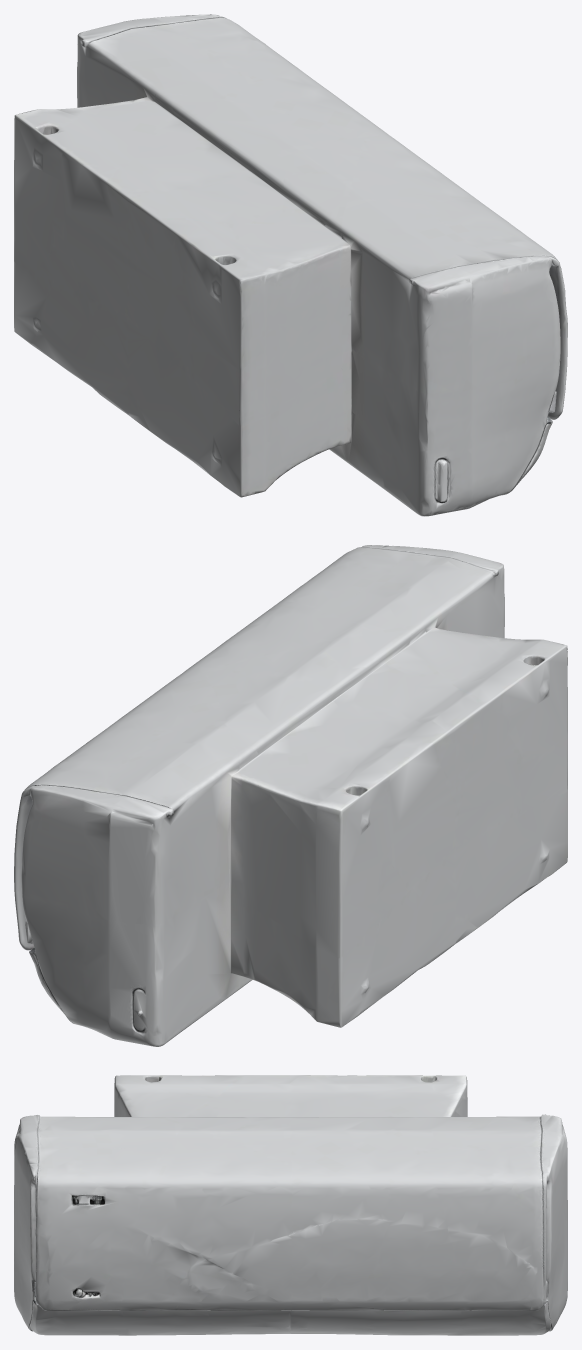
The model's file is indoor.glb.
3 renders of one model, top to bottom at view 1: azimuth 30°, elevation 25°; view 2: azimuth 150°, elevation 25°; view 3: azimuth 270°, elevation 25°, orthographic. The views are drawn at different scales.
Visible parts, largest first — view 1: tripo_node_06da59c1-ff24-43dd-b6ef-981daf256566; view 2: tripo_node_06da59c1-ff24-43dd-b6ef-981daf256566; view 3: tripo_node_06da59c1-ff24-43dd-b6ef-981daf256566.
Boxes of the visible parts, x1=… form: tripo_node_06da59c1-ff24-43dd-b6ef-981daf256566: x1=14, y1=14, x2=567, y2=516; tripo_node_06da59c1-ff24-43dd-b6ef-981daf256566: x1=14, y1=545, x2=567, y2=1046; tripo_node_06da59c1-ff24-43dd-b6ef-981daf256566: x1=14, y1=1075, x2=567, y2=1335.
Size of the model in its own units: 0.4569 by 0.3692 by 0.9999.
Materials: 1 (1 with a texture image).
